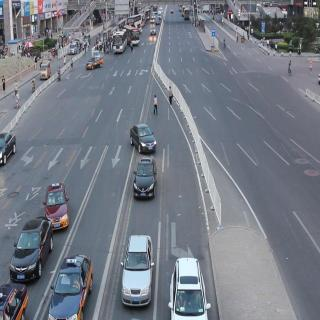BigCar: (114, 225, 160, 317), (112, 29, 127, 59), (124, 22, 142, 47)
Car: (48, 255, 98, 320), (167, 256, 208, 320), (14, 206, 46, 283), (38, 178, 70, 229), (133, 155, 156, 203), (131, 122, 158, 156), (39, 57, 52, 82), (88, 53, 104, 72)
